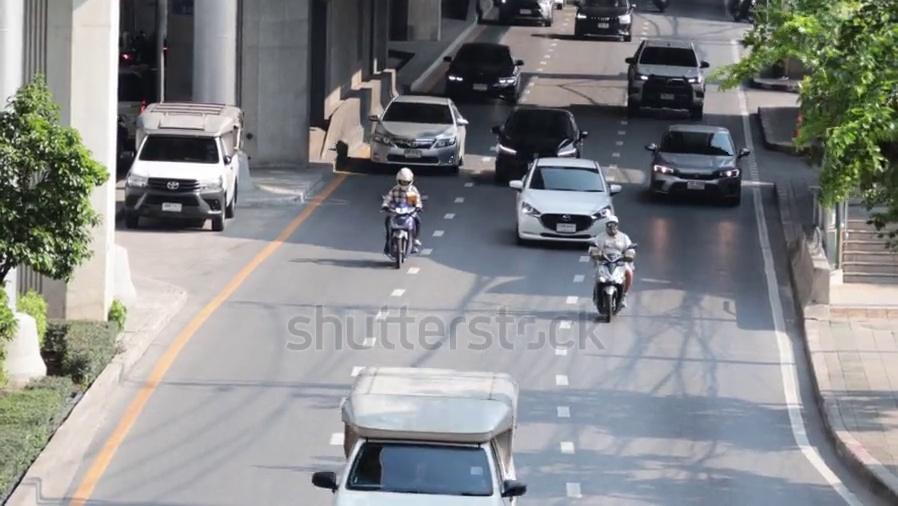rider: (588, 215, 635, 320), (380, 166, 423, 256)
with_helmate: (395, 166, 412, 190), (606, 215, 618, 236)
